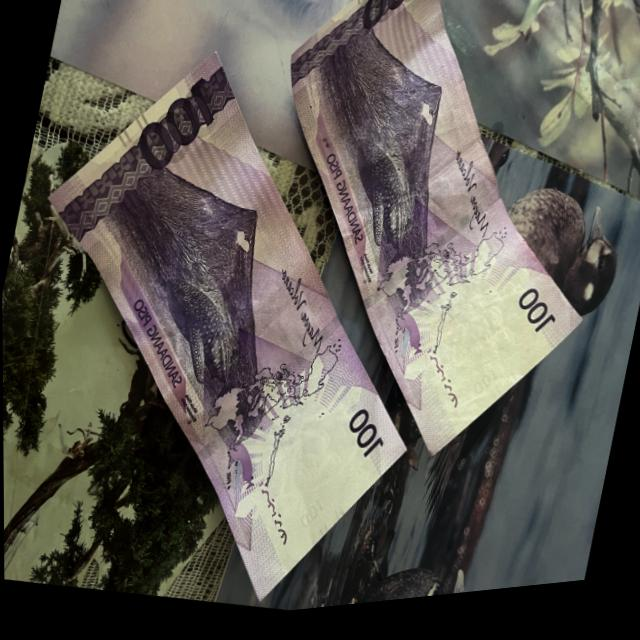100_whale: (138, 252, 270, 423), (322, 134, 435, 286)
100_whale_watermark: (376, 299, 436, 380), (213, 435, 272, 506)
value_watermark: (454, 362, 503, 423), (292, 495, 328, 546)
watermark: (408, 274, 535, 426)
